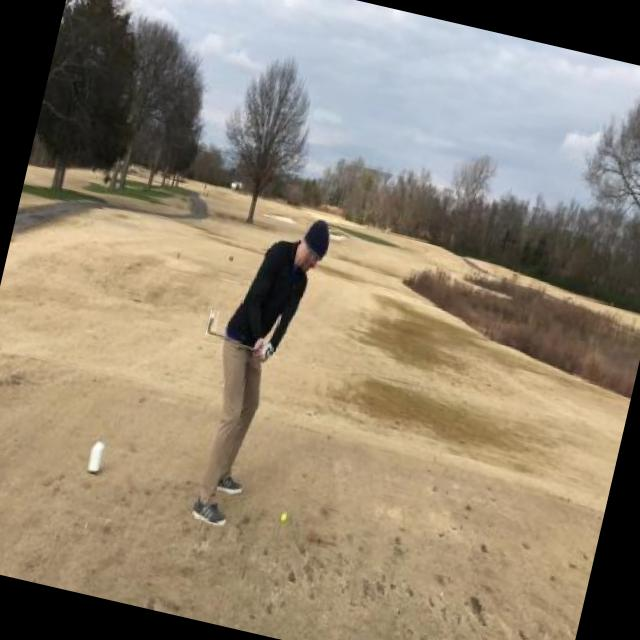club head: (204, 309, 220, 336)
